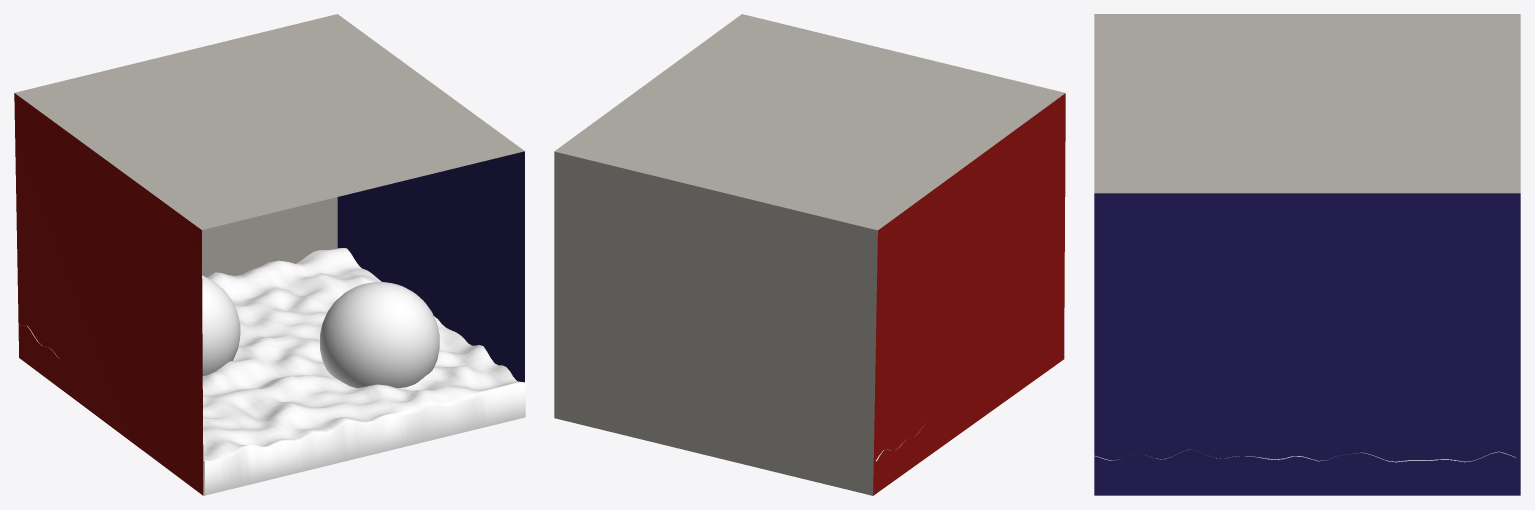
The model's file is cornellbox-water-spheres.obj.
3 views of the same model, side by side, from view 1: azimuth 30°, elevation 25°; view 2: azimuth 150°, elevation 25°; view 3: azimuth 270°, elevation 25° (orthographic). The views are drawn at different scales.
Visible parts, largest first — view 1: ceiling, leftWall, water, rightWall, rightSphere, backWall, leftSphere; view 2: backWall, ceiling, leftWall; view 3: rightWall, ceiling.
Boxes of the visible parts, bbox=[...] form: ceiling: bbox=[14, 14, 524, 229]; leftWall: bbox=[14, 93, 203, 495]; water: bbox=[20, 248, 525, 495]; rightWall: bbox=[337, 151, 524, 382]; rightSphere: bbox=[320, 282, 439, 388]; backWall: bbox=[202, 197, 337, 277]; leftSphere: bbox=[202, 275, 240, 376]; backWall: bbox=[554, 151, 877, 495]; ceiling: bbox=[554, 14, 1065, 230]; leftWall: bbox=[873, 93, 1065, 495]; rightWall: bbox=[1094, 193, 1520, 495]; ceiling: bbox=[1094, 14, 1520, 193].
Bounding box in the file's own units: 2.02 × 1.59 × 2.03.
